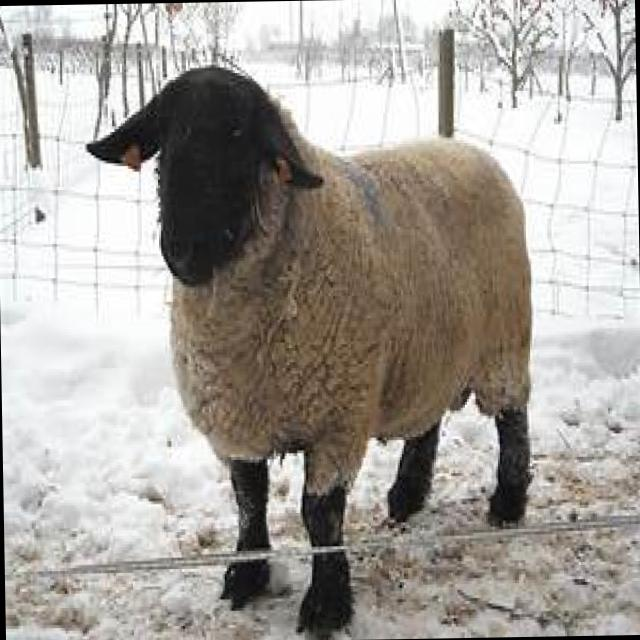animal: (85, 56, 541, 640)
